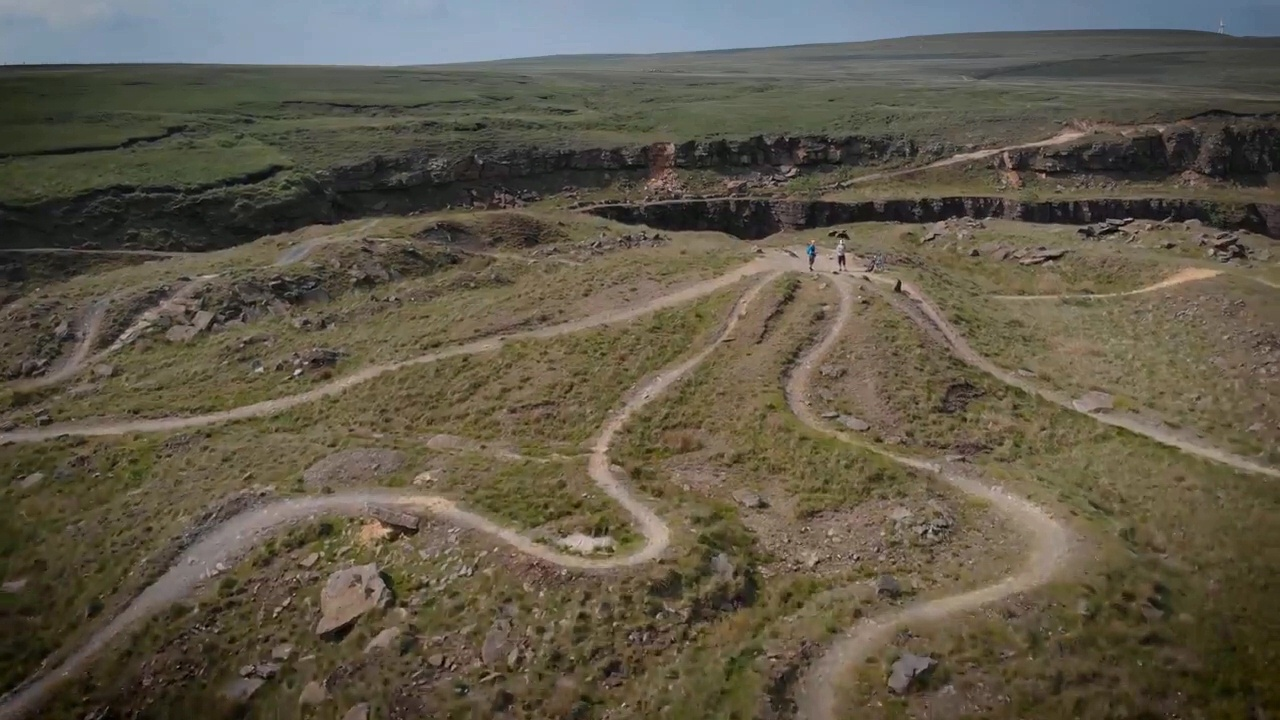insan: (836, 238, 848, 271), (806, 238, 817, 273)
